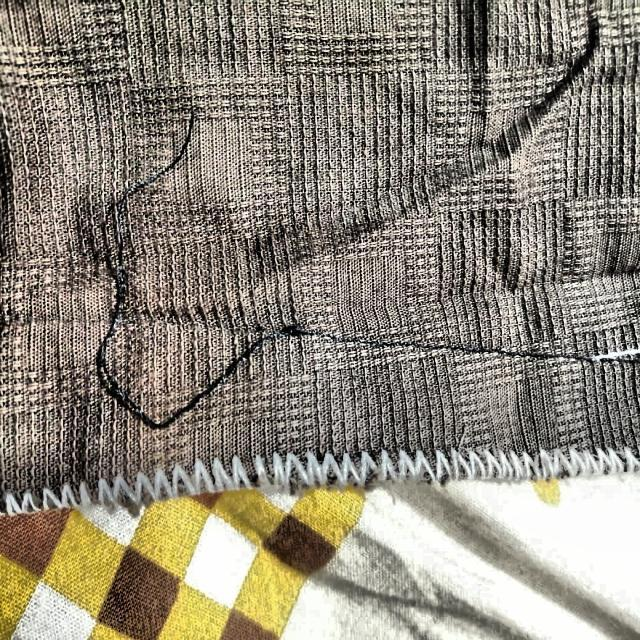gray stitch: (97, 106, 294, 431)
